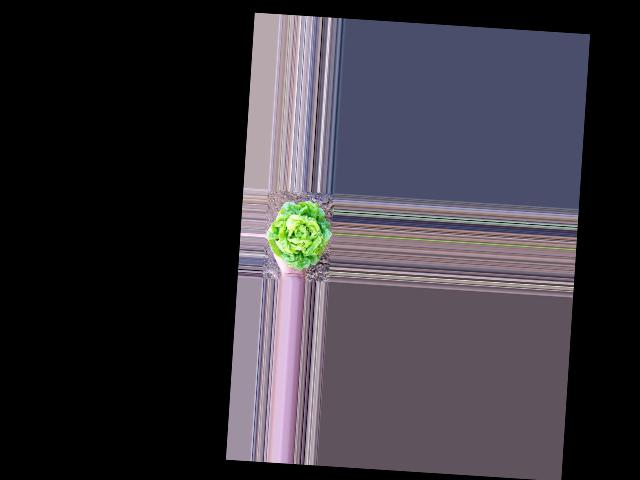lettuce: (266, 197, 332, 267)
